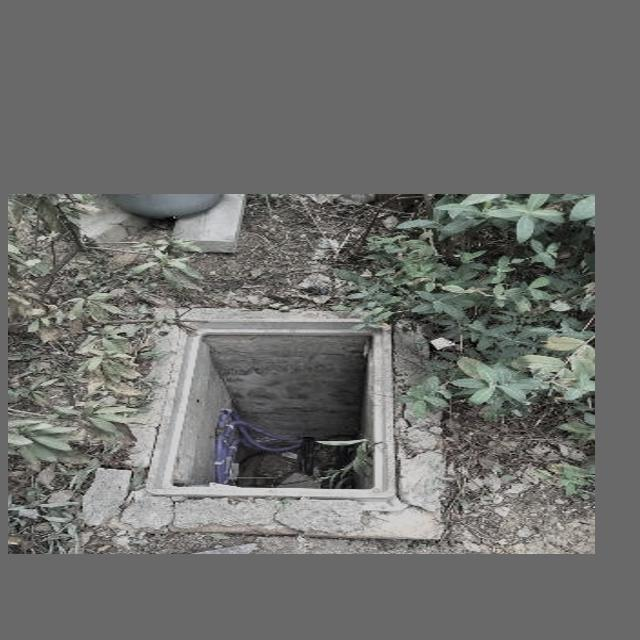lose: (147, 318, 402, 497)
